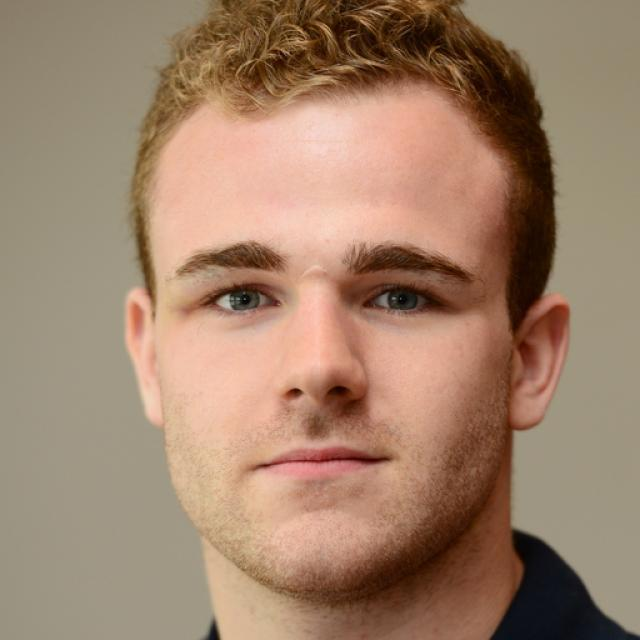neutral: (158, 76, 512, 594)
